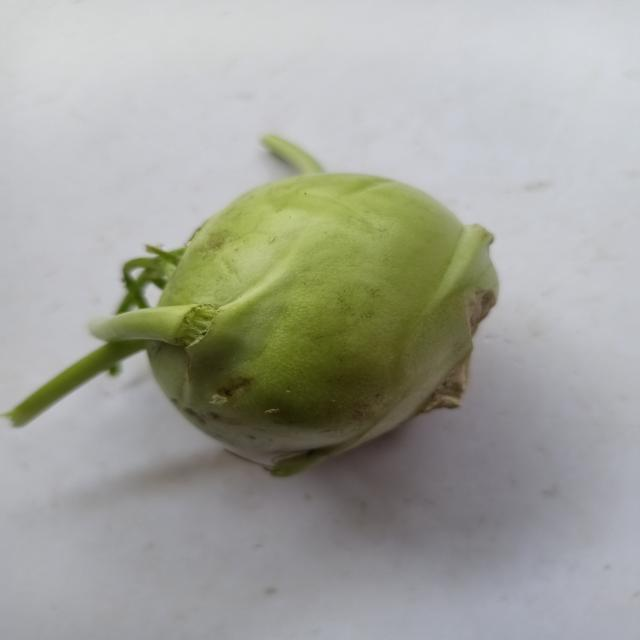Turnip: (17, 132, 555, 496)
